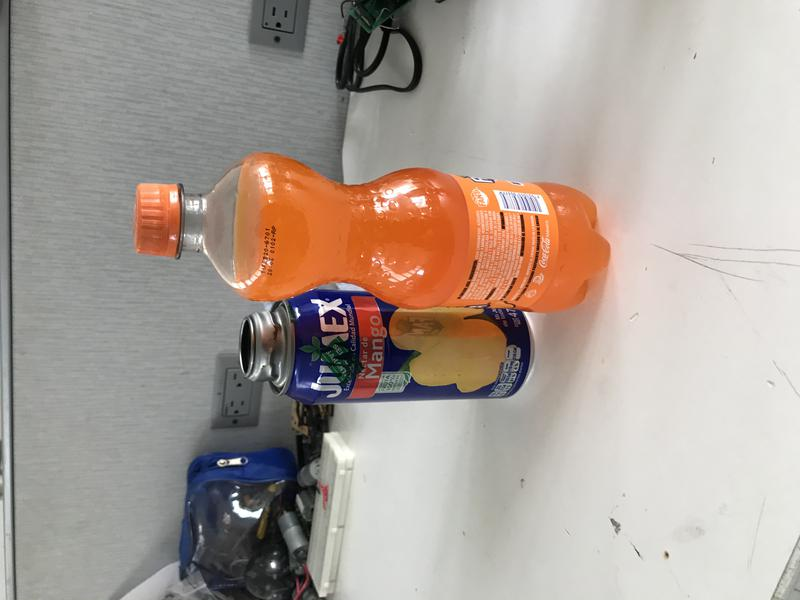fanta: (134, 152, 610, 315)
jumex_botella: (237, 289, 538, 404)
